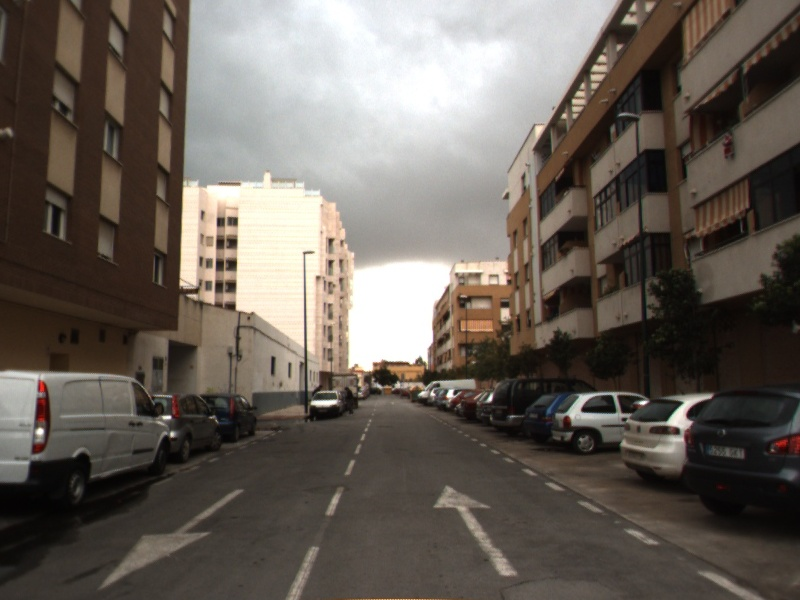STRAIGHT: (431, 483, 523, 578)
